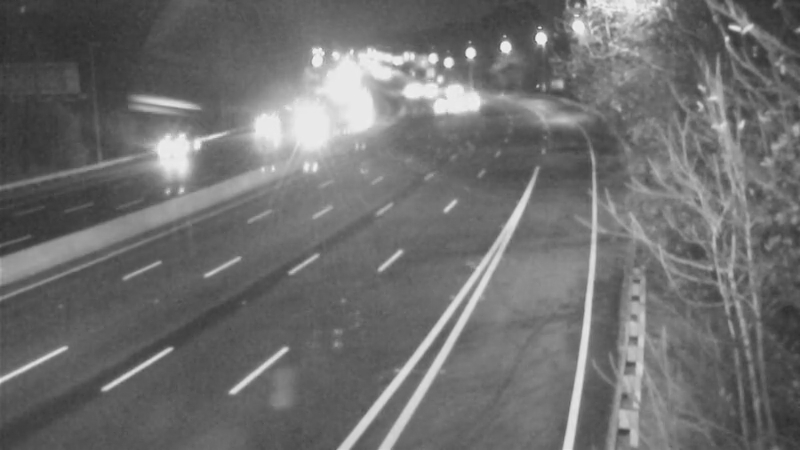vehicle: (145, 114, 225, 194), (445, 74, 495, 124), (412, 81, 462, 131), (251, 102, 301, 152), (279, 111, 329, 161)
